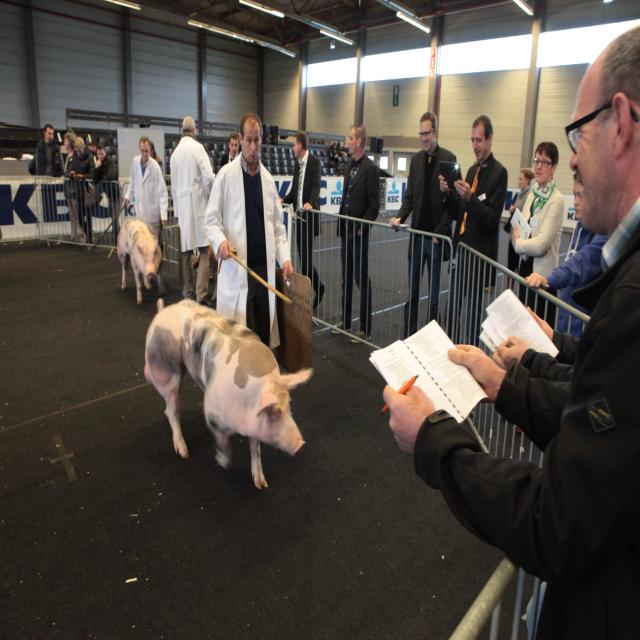pig: (144, 299, 315, 490), (116, 219, 167, 306)
